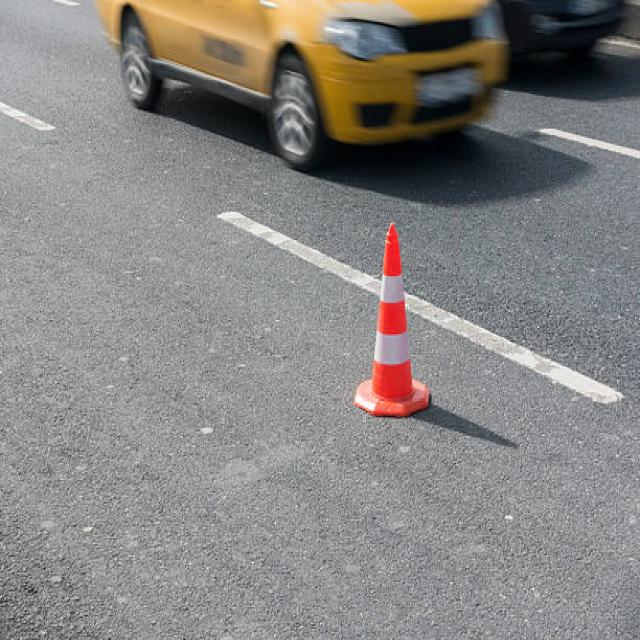Traffic Cone: (342, 213, 445, 455)
